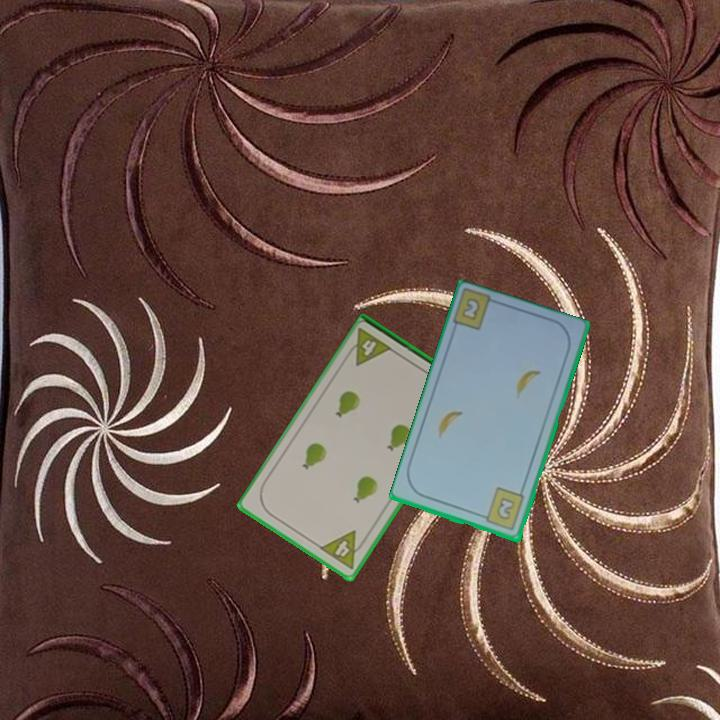2b: (477, 485, 528, 534), (458, 295, 483, 324)
4p: (316, 527, 370, 572), (342, 325, 395, 369)
